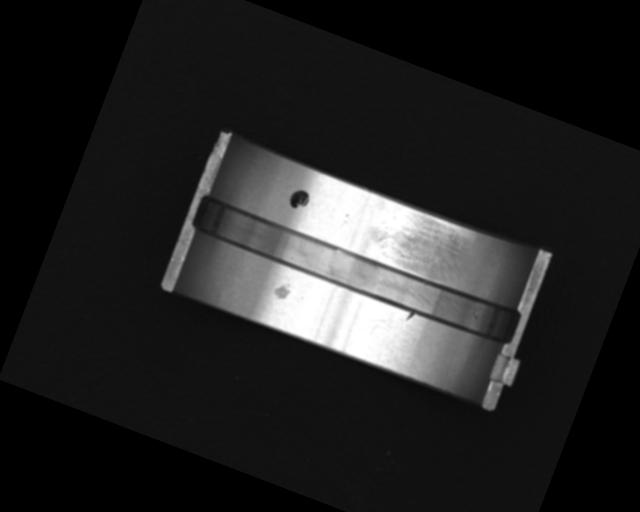blot: (286, 185, 311, 213)
bruise: (269, 276, 294, 303), (404, 310, 415, 323)
gap: (188, 191, 525, 350)
scratch: (361, 197, 475, 287)
